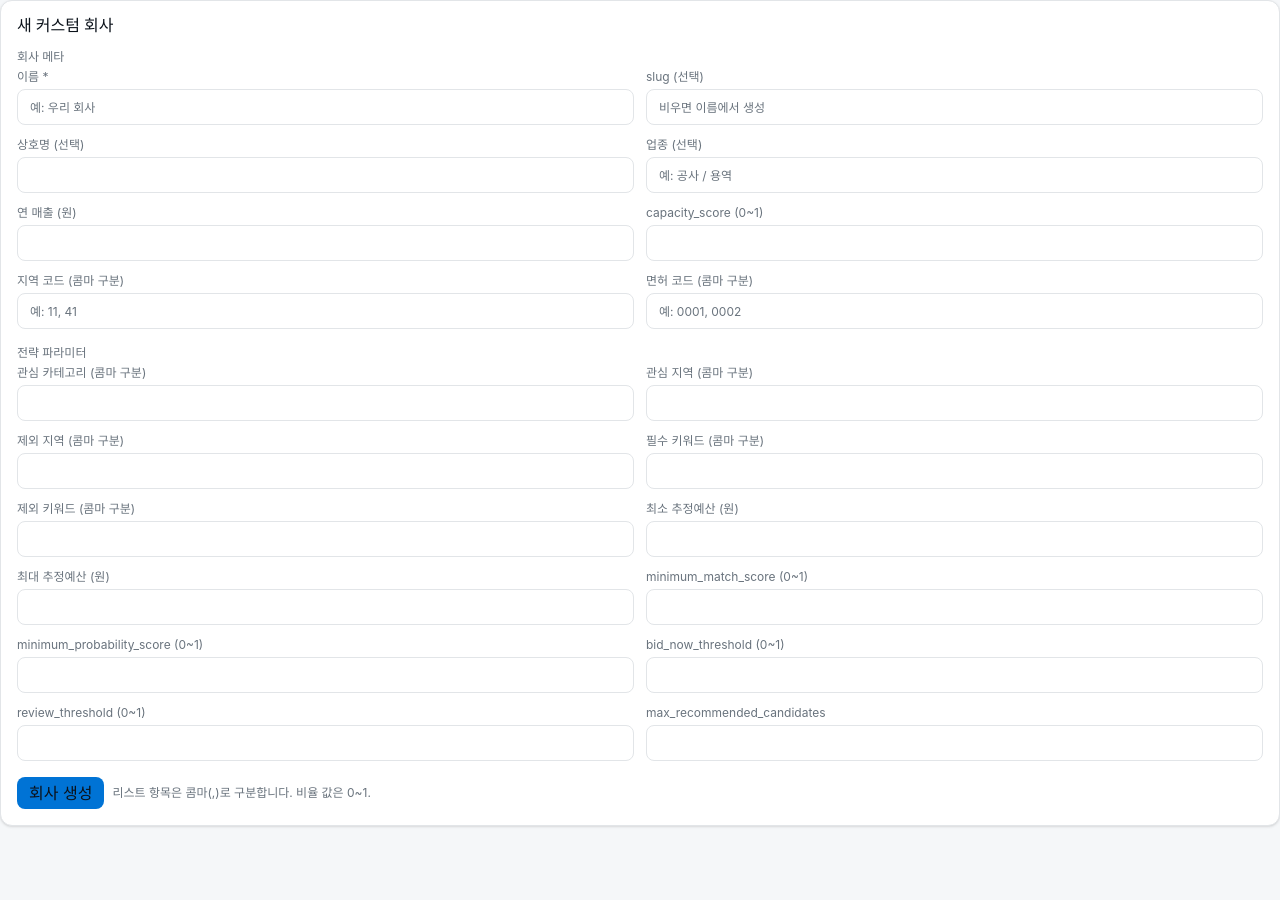
Test: CustomOperatorForm › blocks submit and shows an error when the name is empty
Click the button "회사 생성": (61, 793) x1=17 y1=777 x2=104 y2=809
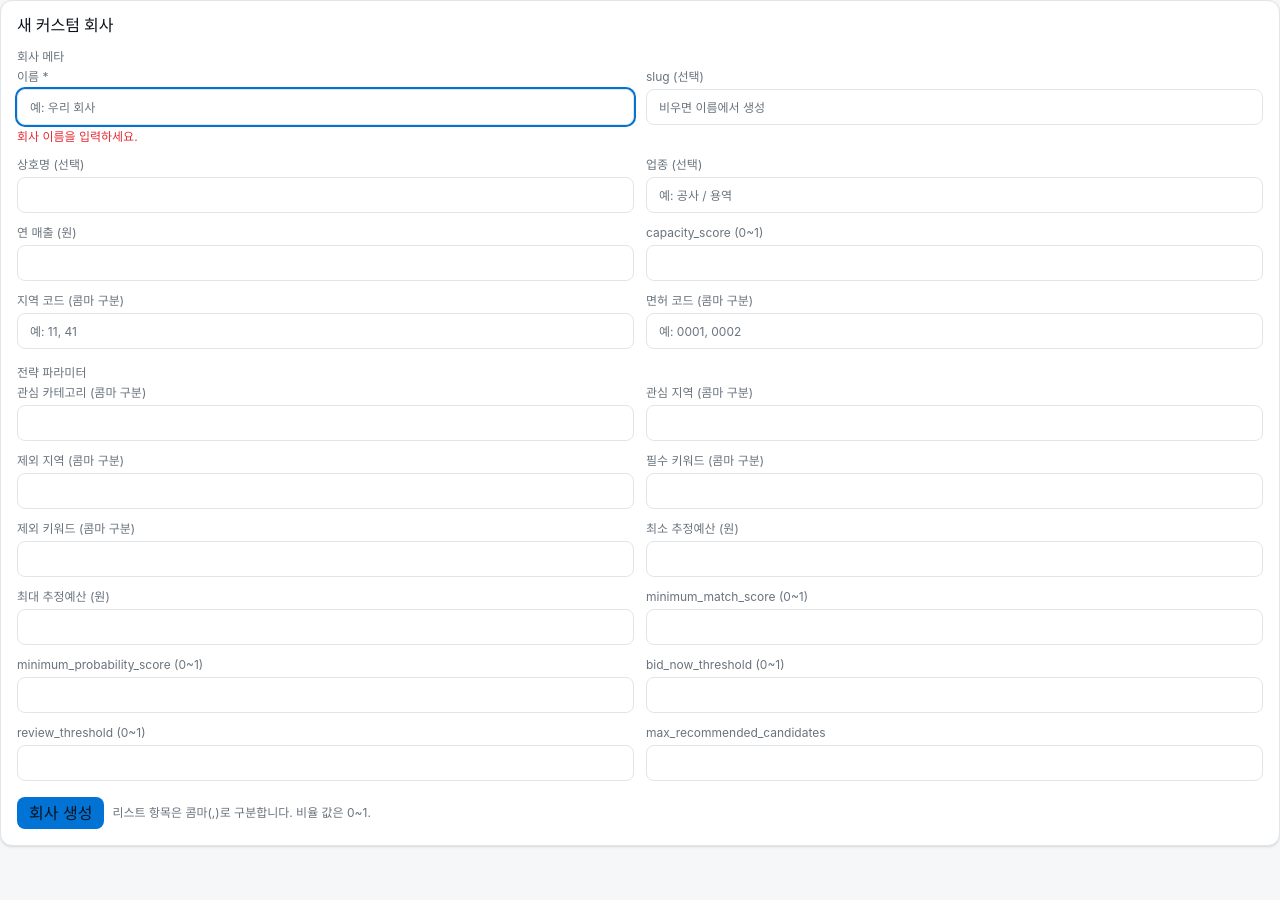
Check: the text "회사 이름을 입력하세요." is shown, box x1=17 y1=129 x2=138 y2=144
